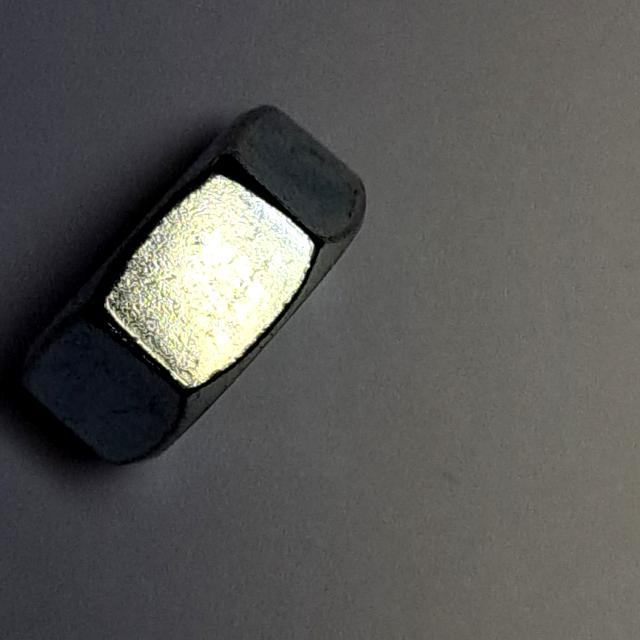Side_Excellent: (8, 83, 391, 480)
